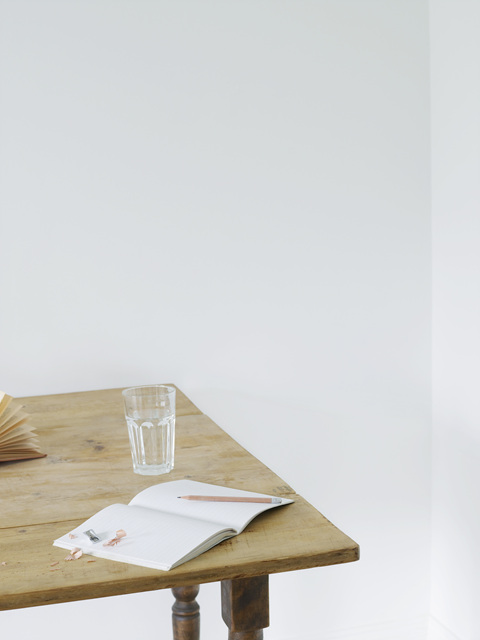glass of water: (108, 380, 185, 480)
